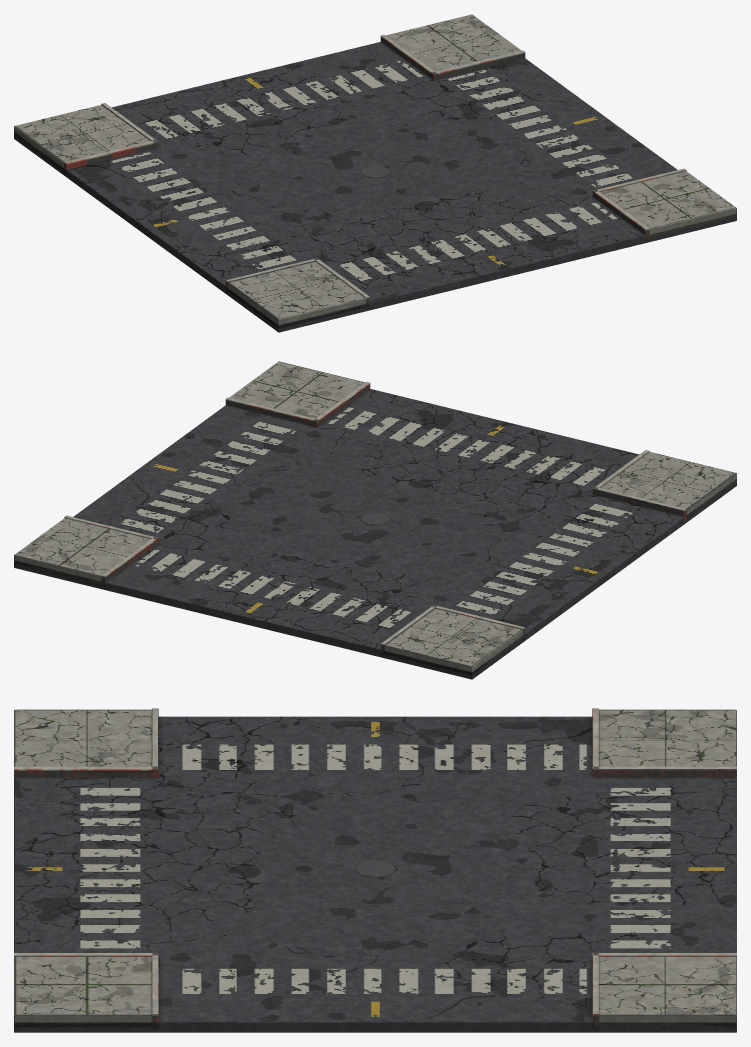
File: Calle_Cruce_60.glb
The picture shows the model from 3 angles, top to bottom: view 1: azimuth 30°, elevation 25°; view 2: azimuth 150°, elevation 25°; view 3: azimuth 270°, elevation 25°; orthographic projection. The views are drawn at different scales.
Visible parts, largest first — view 1: Calle_Cruce_60; view 2: Calle_Cruce_60; view 3: Calle_Cruce_60.
Part boxes in pixels (x1,y1,x2,y2): Calle_Cruce_60: (14,14,736,332); Calle_Cruce_60: (14,361,736,679); Calle_Cruce_60: (14,708,736,1032).
Bounding box in the file's own units: 60 × 1.75 × 60.
1 material, 1 textured.
